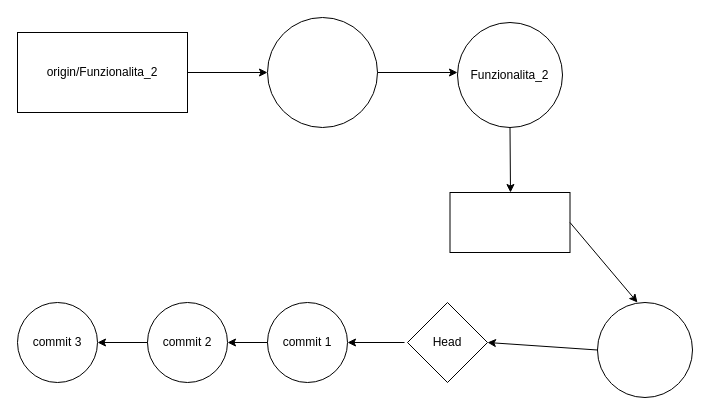
Some shapes in this 710 by 415 pixel diagram are drawn without their labels. The centre of each missing label's shape, as x and y in pixels:
"commit funzionalità sperimentale" goes at (x=644, y=350).
"nuova modifica" goes at (x=322, y=72).
"origin/Funzionalita_1" goes at (x=509, y=222).
